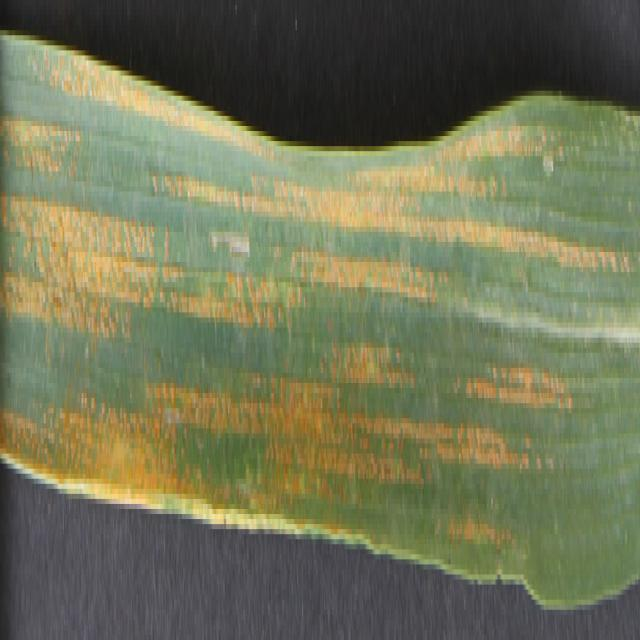leaf rust: (1, 5, 635, 489)
